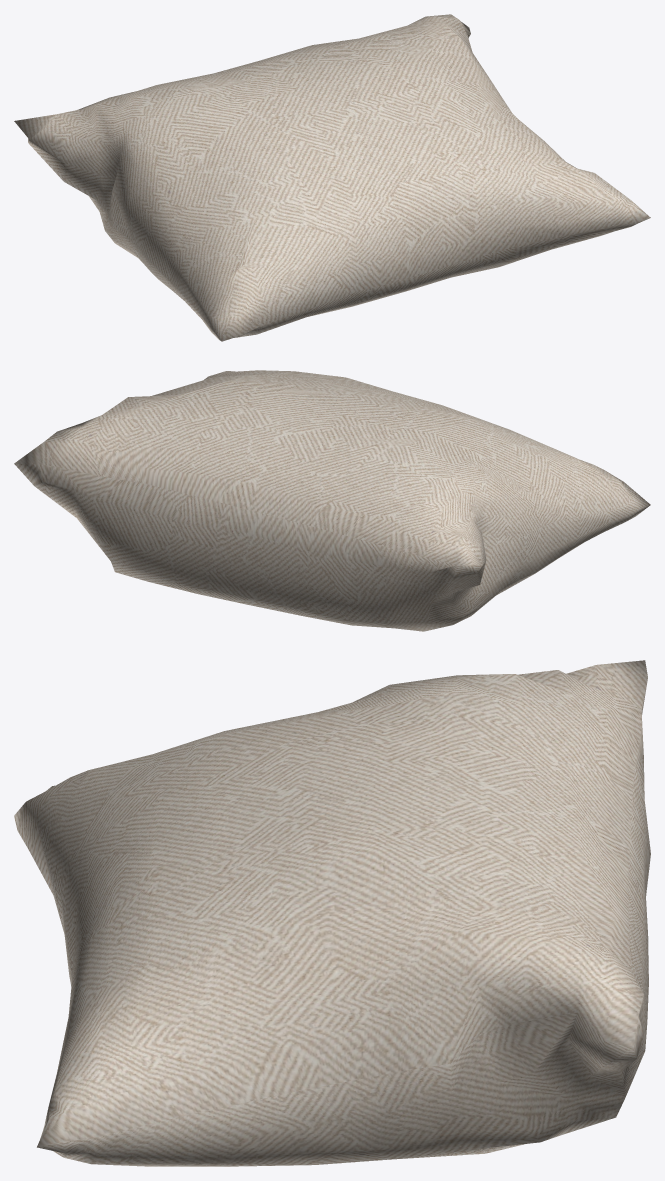
The picture shows the model from 3 angles, top to bottom: view 1: azimuth 30°, elevation 25°; view 2: azimuth 150°, elevation 25°; view 3: azimuth 270°, elevation 25°; orthographic projection. The views are drawn at different scales.
Parts seen in each view (by area): view 1: pillow; view 2: pillow; view 3: pillow.
Boxes of the visible parts, <box> form: pillow: <box>14,14,650,341</box>; pillow: <box>14,370,650,631</box>; pillow: <box>14,660,650,1166</box>.
Bounding box in the file's own units: 67.83 × 22.33 × 49.85.
1 material, 1 textured.
